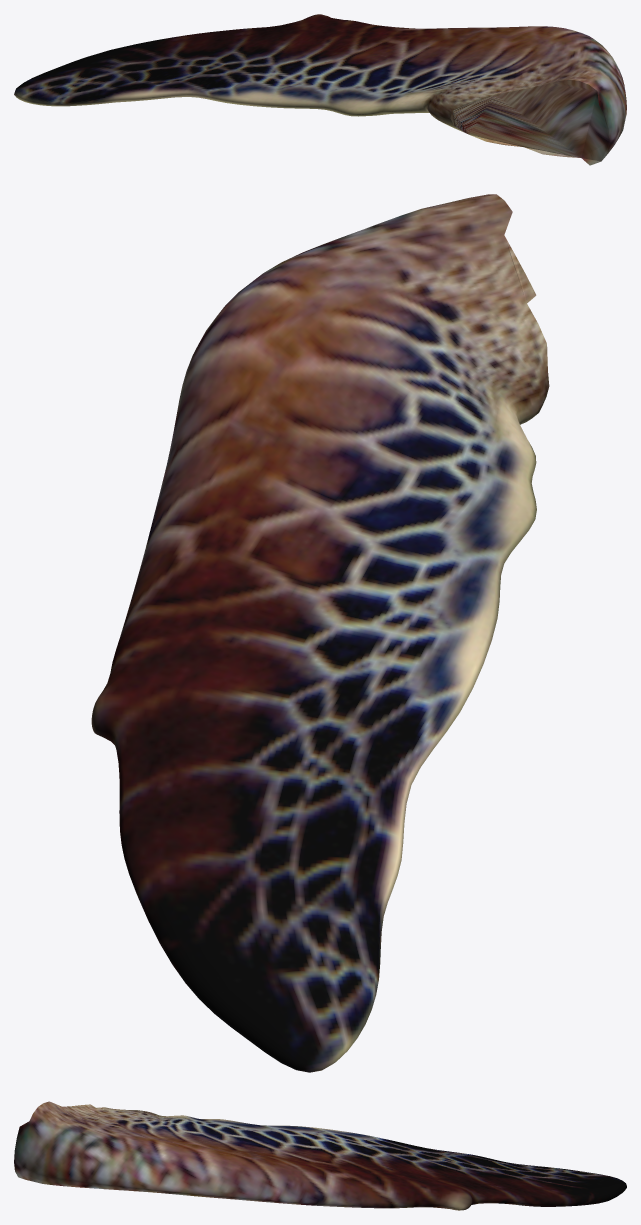
File: AletaIzq.obj
3 renders of one model, top to bottom at view 1: azimuth 30°, elevation 25°; view 2: azimuth 150°, elevation 25°; view 3: azimuth 270°, elevation 25°, orthographic. The views are drawn at different scales.
Visible parts, largest first — view 1: AletaIzq; view 2: AletaIzq; view 3: AletaIzq.
Part boxes in pixels (bbox=[...]): AletaIzq: bbox=[14, 14, 626, 165]; AletaIzq: bbox=[91, 194, 549, 1072]; AletaIzq: bbox=[14, 1101, 626, 1210].
Bounding box in the file's own units: 5.2 × 3.09 × 9.64.
